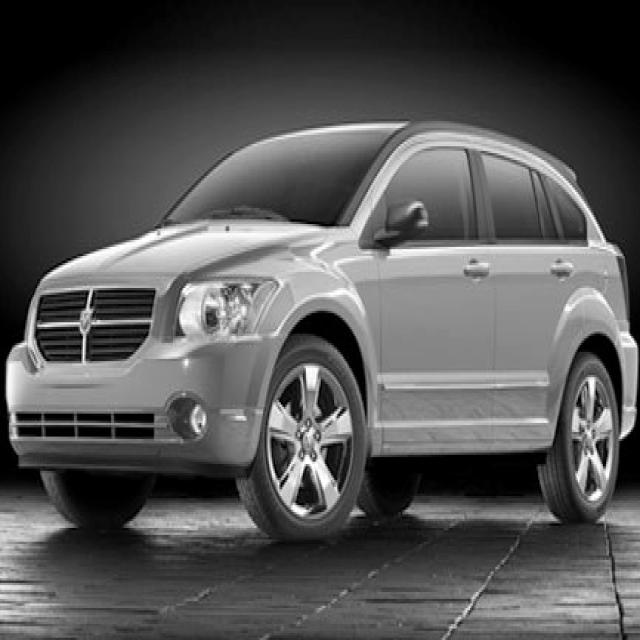car: (4, 117, 638, 544)
